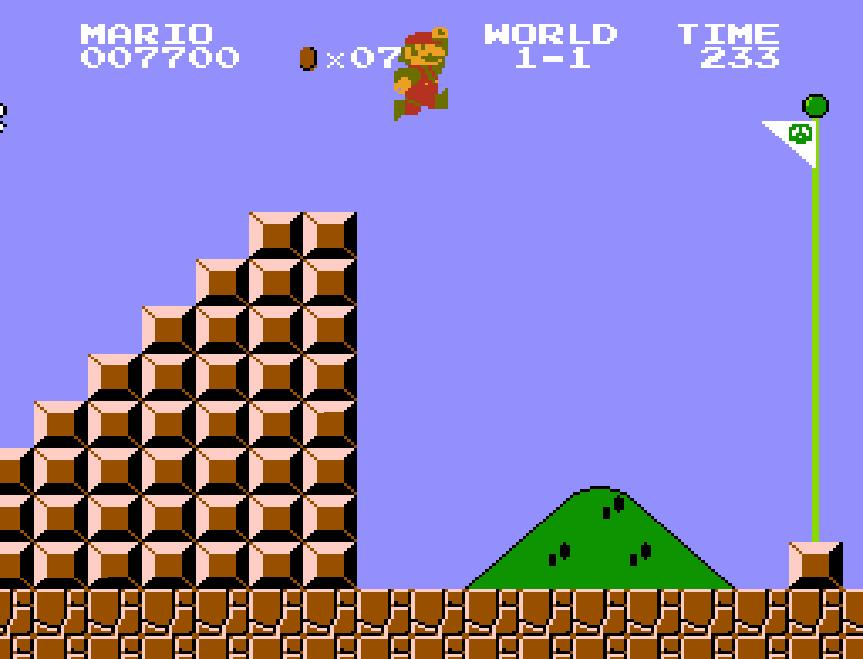big_mario: (392, 24, 450, 122)
